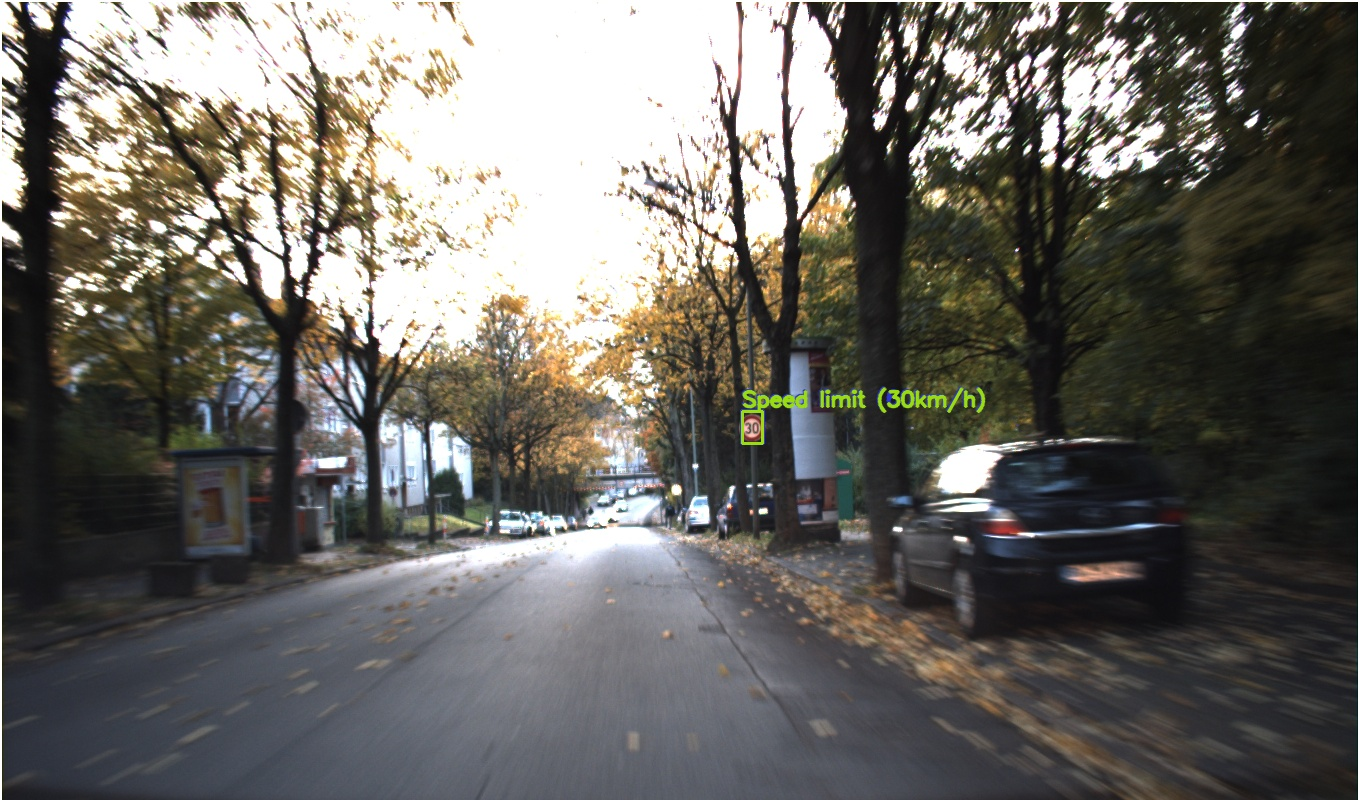Yield: (1206, 244, 1296, 323), (594, 286, 668, 353)
